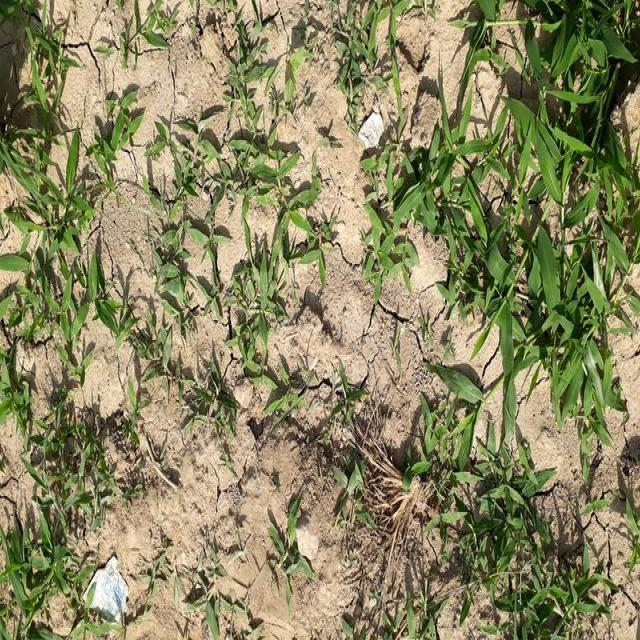weed: (450, 10, 640, 429), (4, 10, 144, 335), (464, 457, 601, 640), (134, 340, 322, 427), (147, 239, 324, 331), (160, 132, 319, 231), (0, 382, 55, 640), (342, 3, 410, 111), (363, 162, 422, 273), (252, 511, 310, 593), (230, 52, 282, 125)
